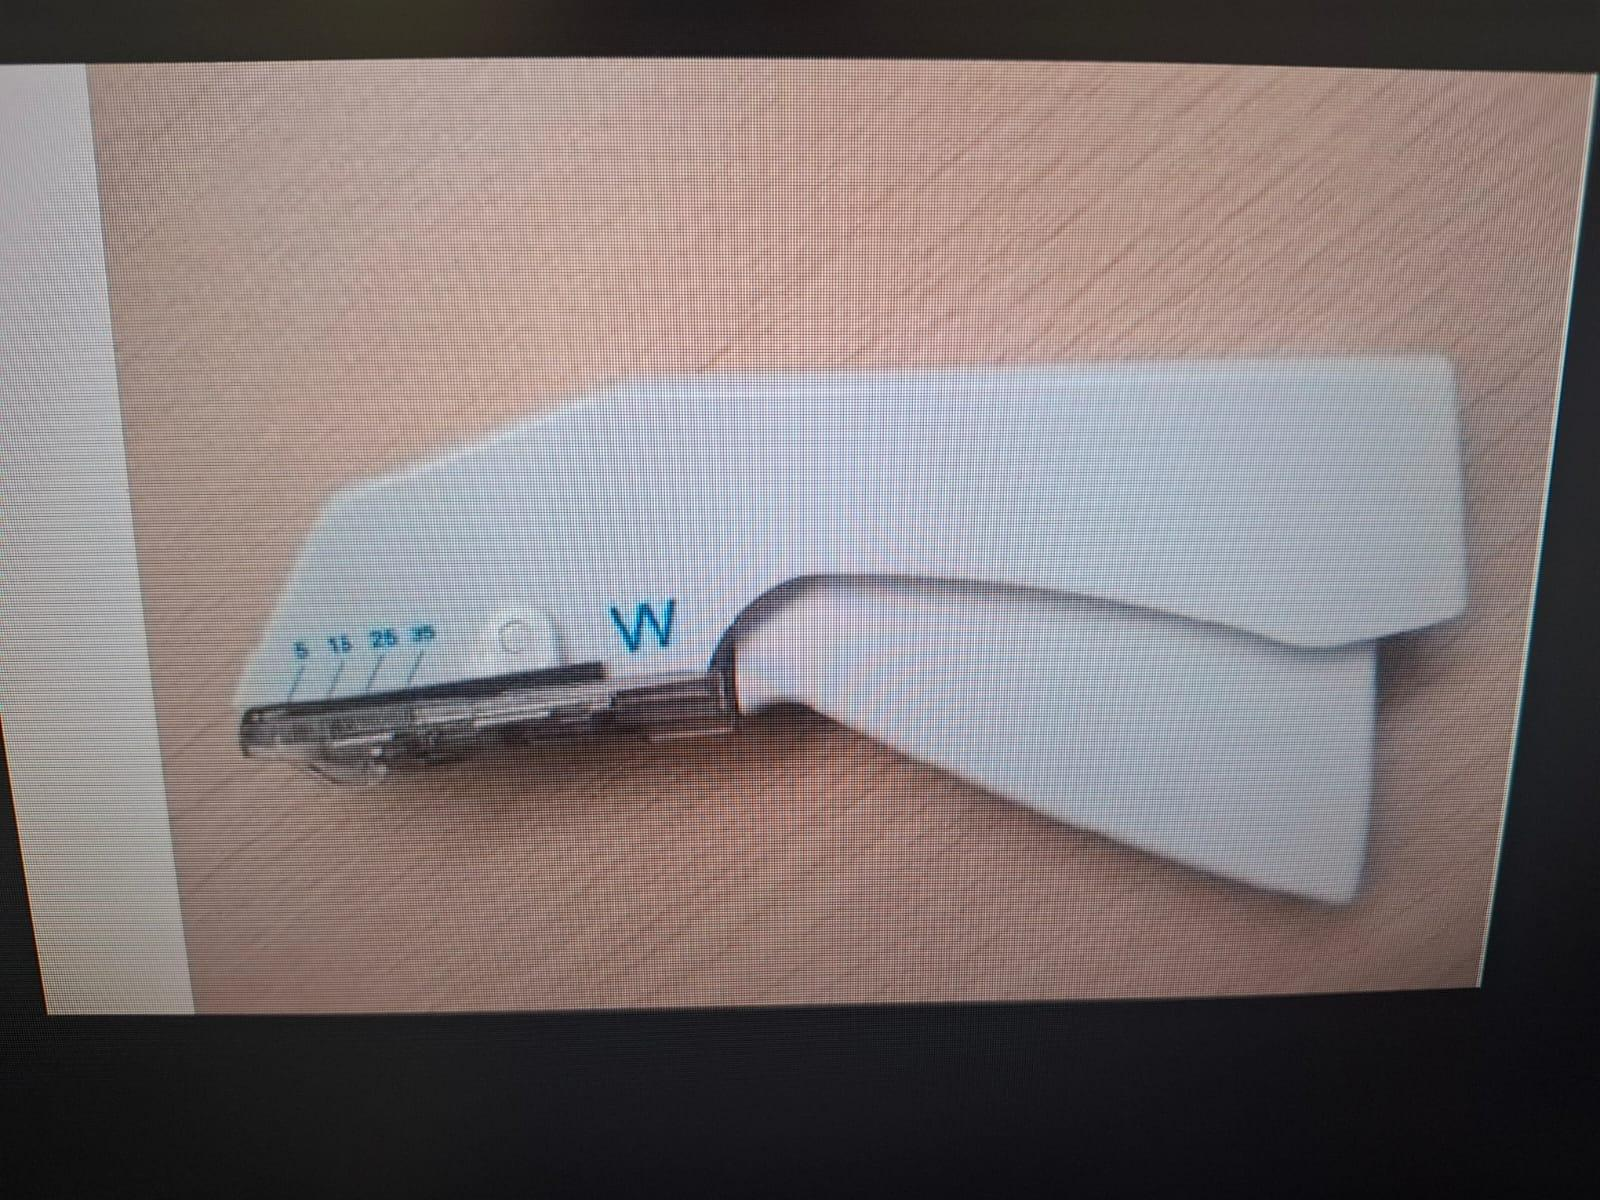Skin Stapler: (224, 334, 1488, 908)
